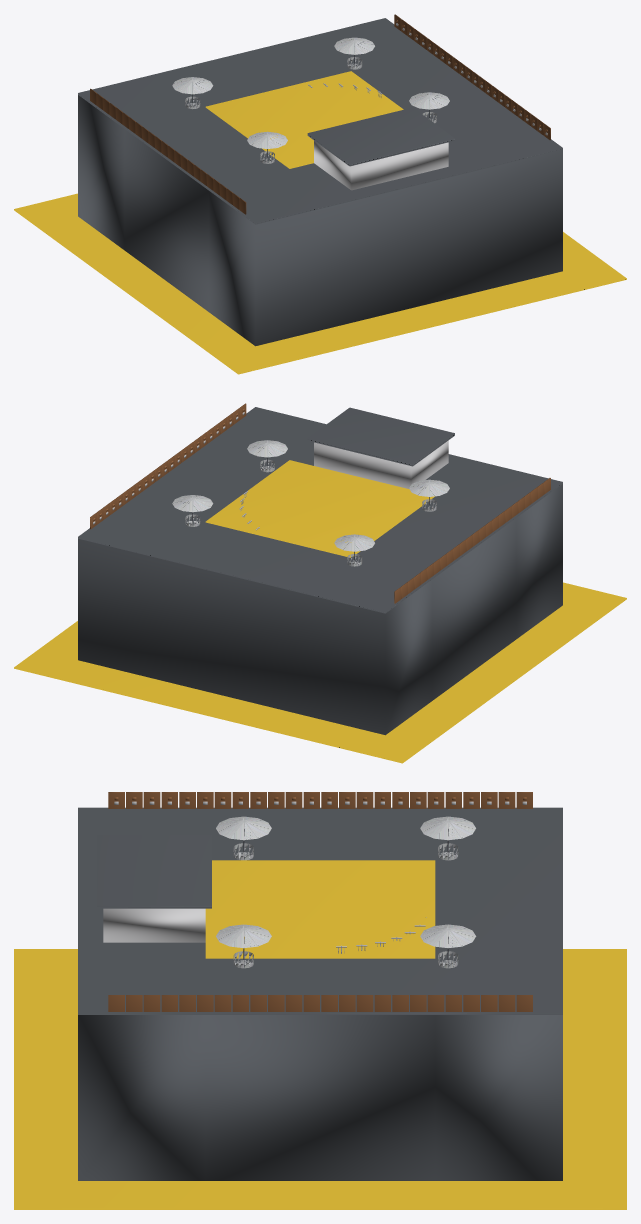
The picture shows the model from 3 angles, top to bottom: view 1: azimuth 30°, elevation 25°; view 2: azimuth 150°, elevation 25°; view 3: azimuth 270°, elevation 25°; orthographic projection. The views are drawn at different scales.
Visible parts, largest first — view 1: ssamzie_craft_workshops_facade, ssamzie_rooftop_sky_garden, ssamzie_courtyard_ground; view 2: ssamzie_craft_workshops_facade, ssamzie_rooftop_sky_garden, ssamzie_courtyard_ground; view 3: ssamzie_rooftop_sky_garden, ssamzie_craft_workshops_facade, ssamzie_courtyard_ground.
Part boxes in pixels (x1,y1,x2,y2): ssamzie_craft_workshops_facade: (78, 95, 562, 346); ssamzie_rooftop_sky_garden: (78, 14, 562, 224); ssamzie_courtyard_ground: (14, 193, 626, 374); ssamzie_craft_workshops_facade: (78, 484, 562, 735); ssamzie_rooftop_sky_garden: (78, 403, 562, 613); ssamzie_courtyard_ground: (14, 582, 626, 763); ssamzie_rooftop_sky_garden: (78, 792, 562, 1014); ssamzie_craft_workshops_facade: (78, 1015, 562, 1180); ssamzie_courtyard_ground: (14, 949, 626, 1209).
Bounding box in the file's own units: 48 × 18.3 × 48.
Materials: 4 (4 with a texture image).
